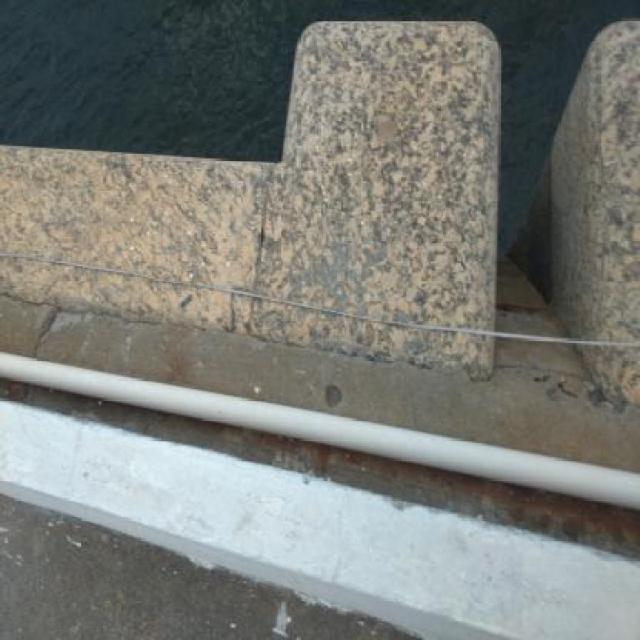gas: (2, 351, 638, 508)
